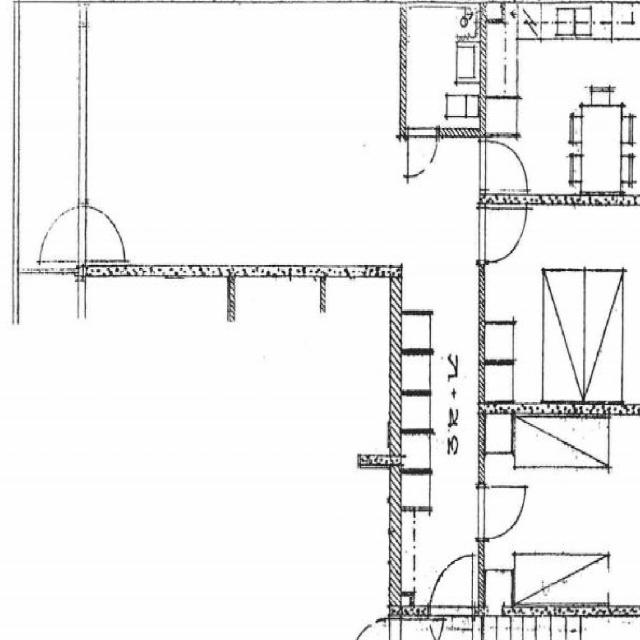door: (429, 550, 473, 615), (36, 207, 87, 261), (79, 207, 129, 261), (480, 210, 527, 262), (480, 486, 526, 538), (480, 139, 526, 191), (429, 605, 473, 640), (407, 129, 437, 174)
